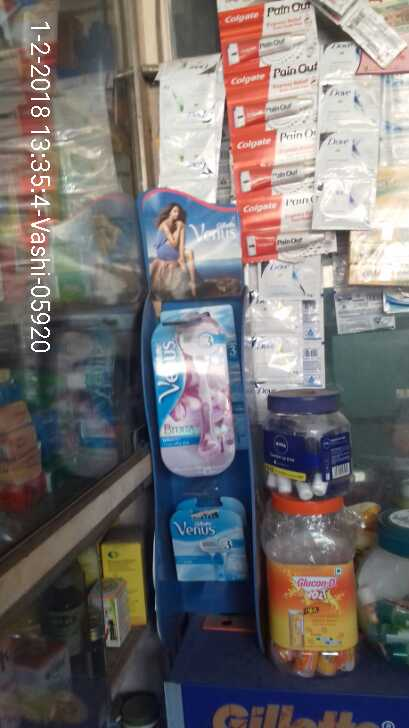venus: (149, 303, 242, 479), (167, 499, 251, 586)
